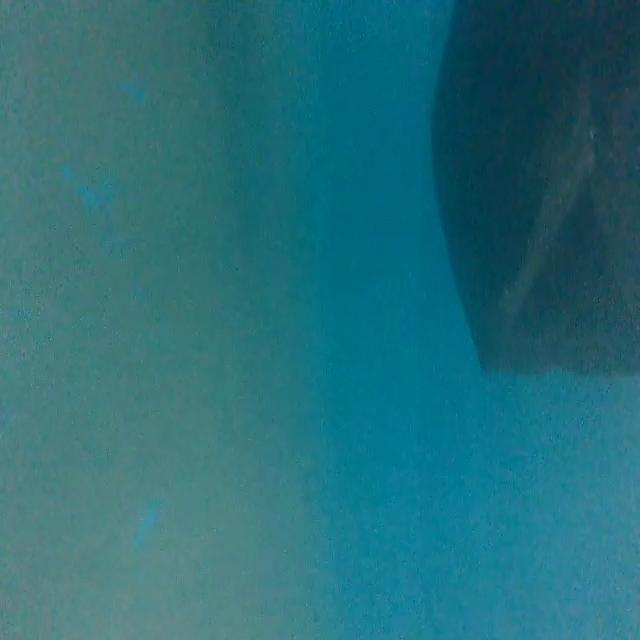plastic bags: (424, 1, 640, 379)
